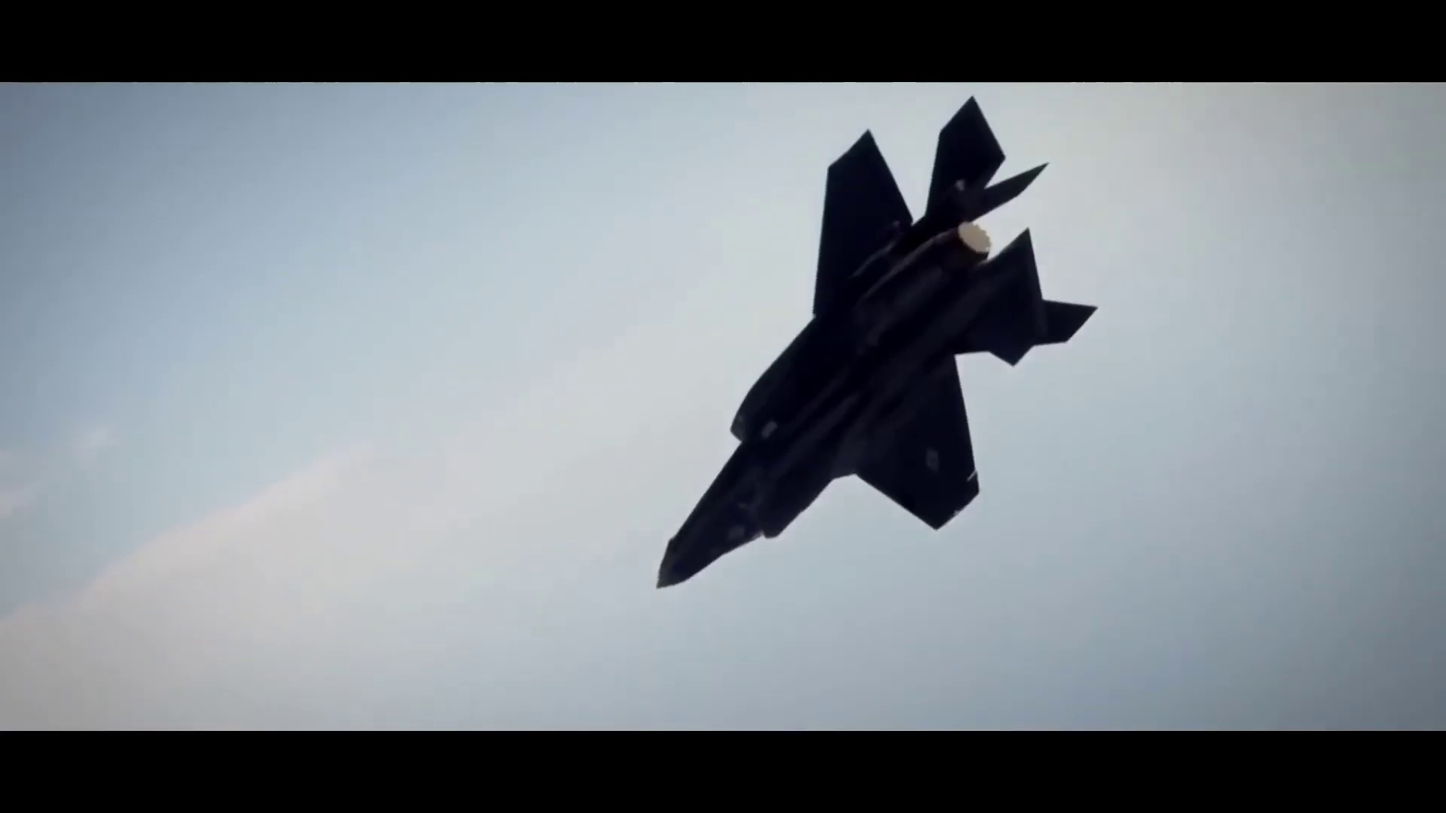F35: (656, 95, 1100, 589)
